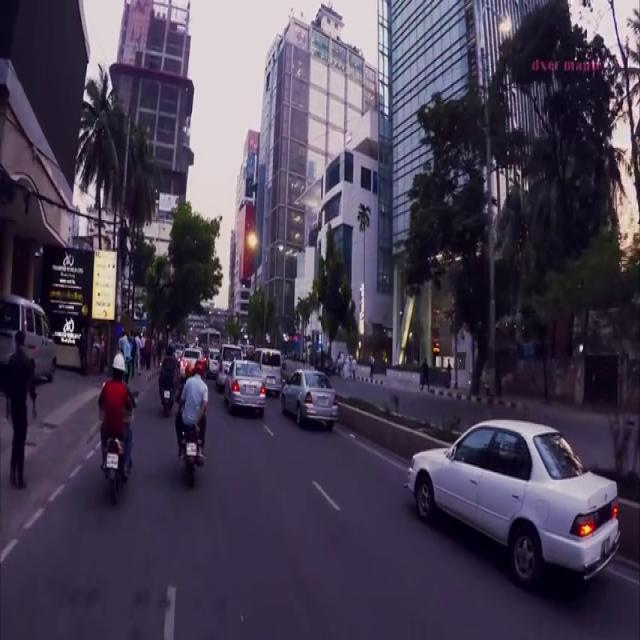silver: (281, 370, 341, 432), (228, 356, 268, 424)
